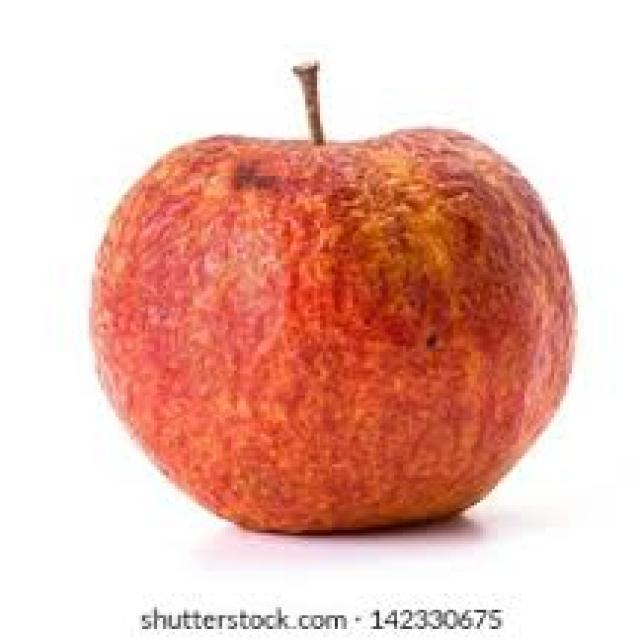overripe: (81, 119, 581, 538)
